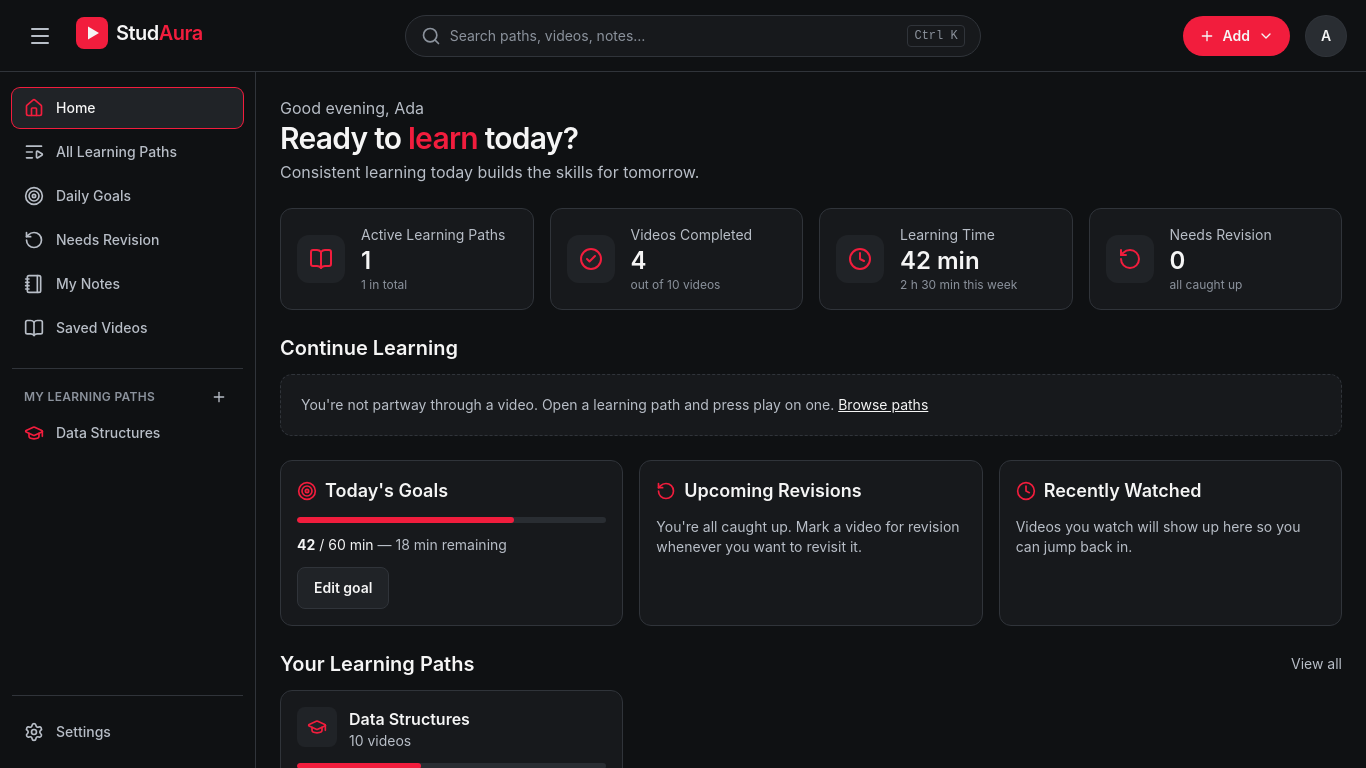
today's goal on the dashboard › picks a preset and edits an existing goal
Click the button "Edit goal" at (343, 588), box [297,567,390,609]
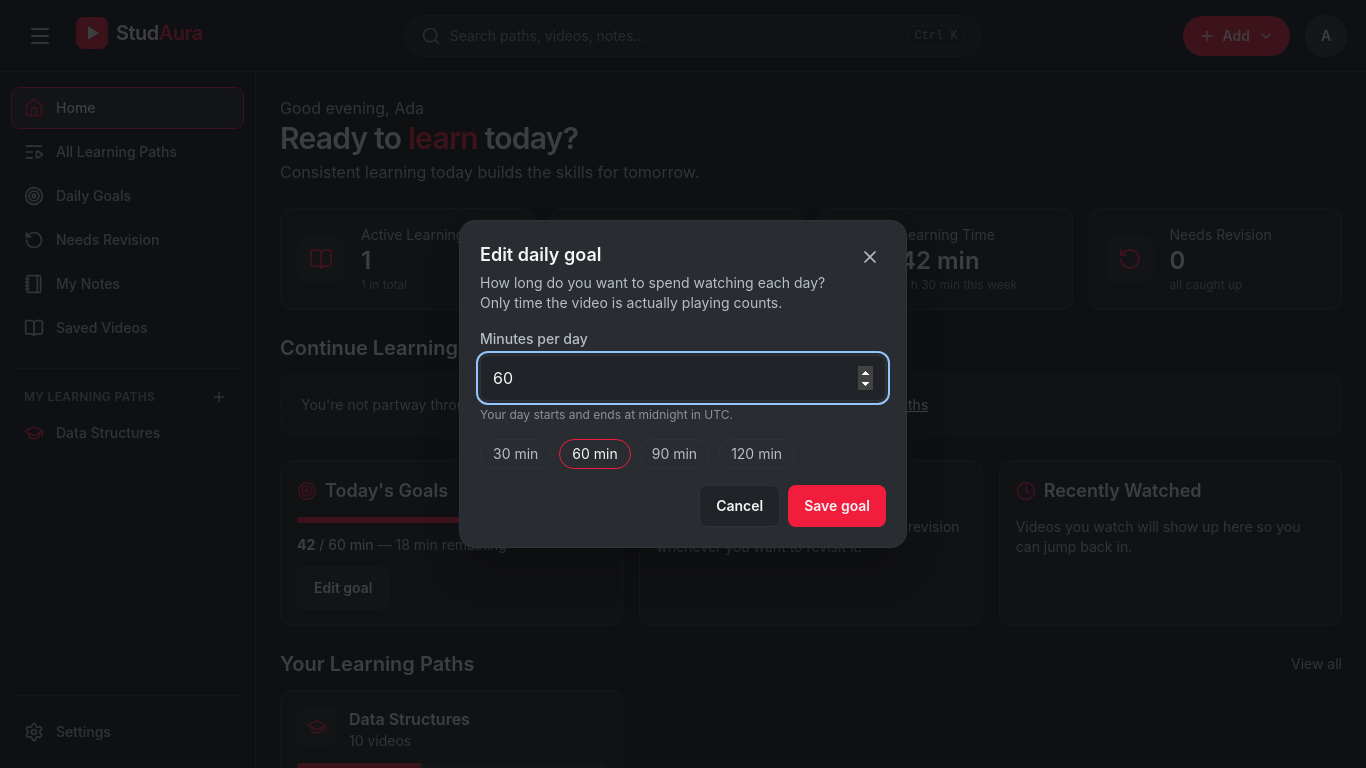
Expected: the number field labelled "Minutes per day" holds "60", [480,355,886,401]
Click the button "120 min" at (757, 454), box [718,439,795,469]
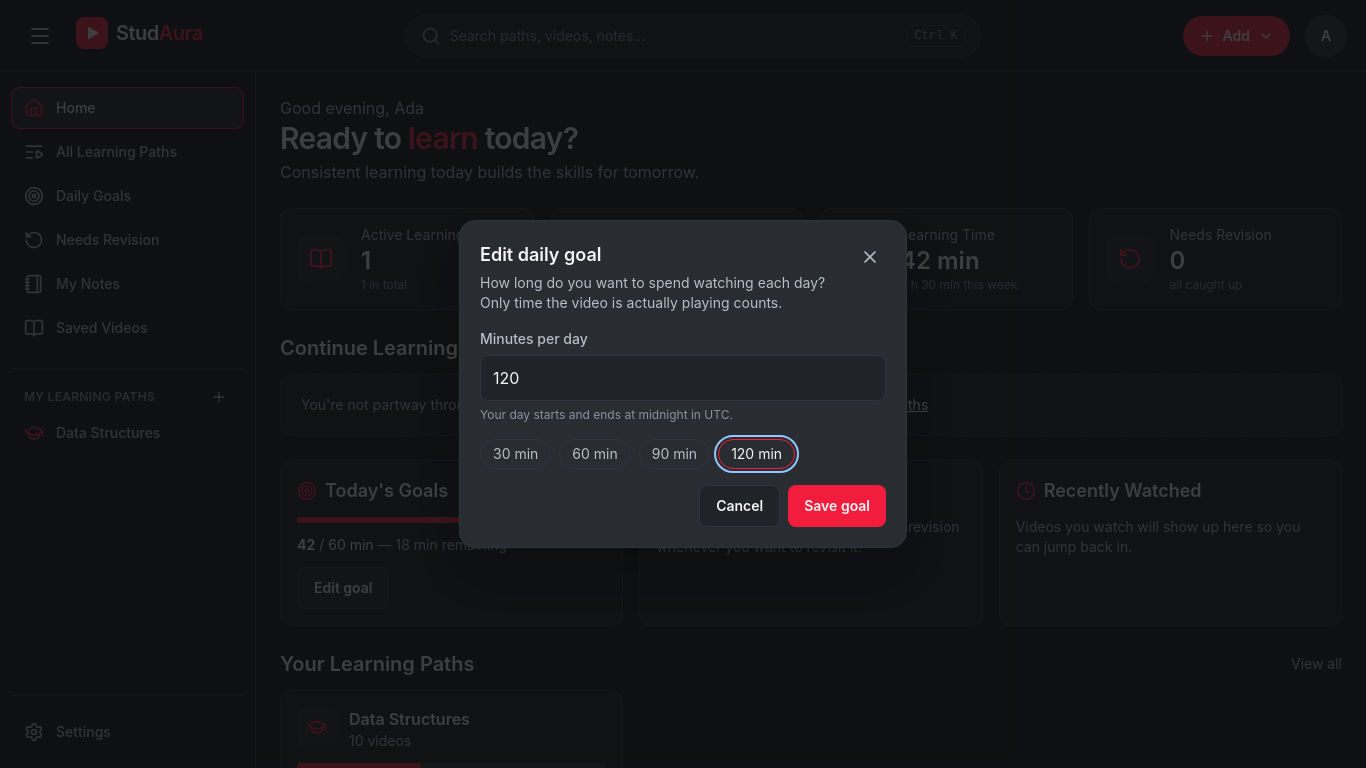
Expected: the number field labelled "Minutes per day" holds "120", [480,355,886,401]
Click the button "Save goal" at (837, 506), box [788,485,886,527]
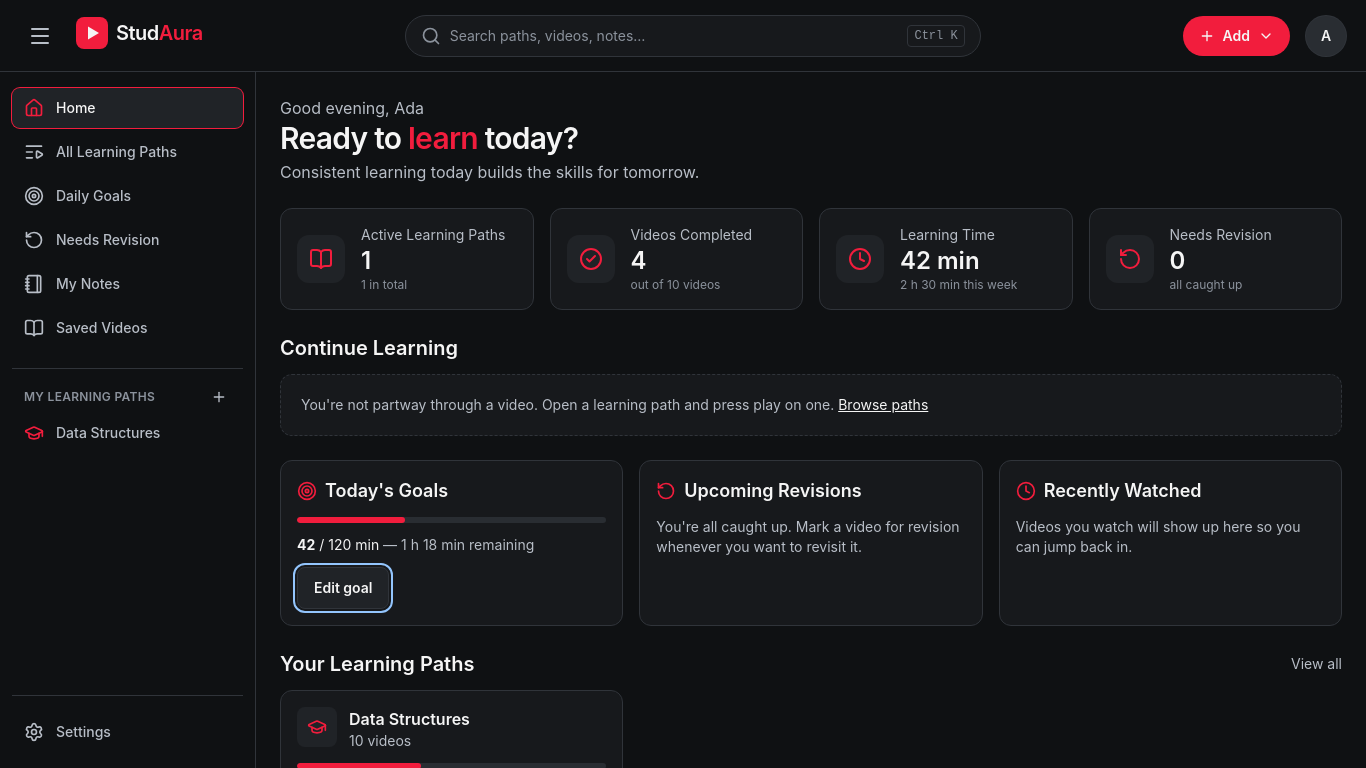
Expected: the text "— 1 h 18 min remaining" is shown, [379,536,534,553]
